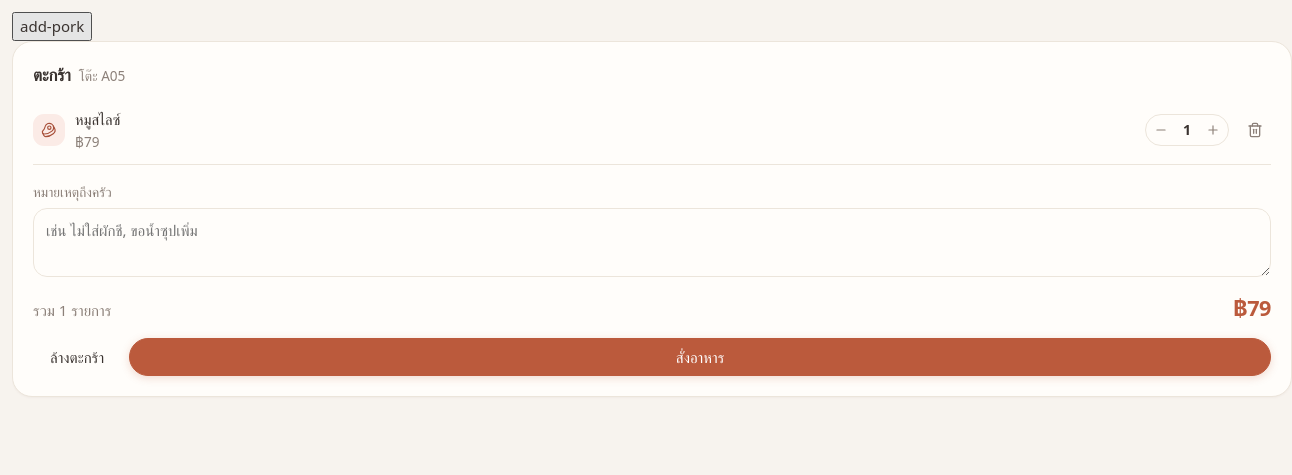
Scenario: CartPanel › สั่งไม่สำเร็จ → แสดง error จากเซิร์ฟเวอร์
Earlier steps of the test are not shown.
Click the button "สั่งอาหาร": click(700, 357) [129,338,1271,376]
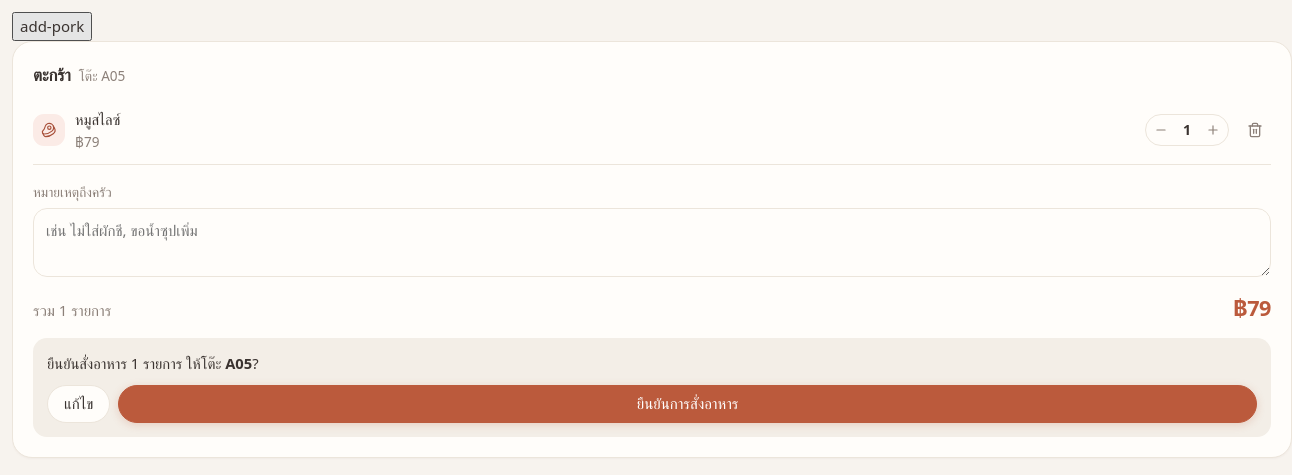
Click the button "ยืนยันการสั่งอาหาร": click(688, 404) [118,385,1257,423]
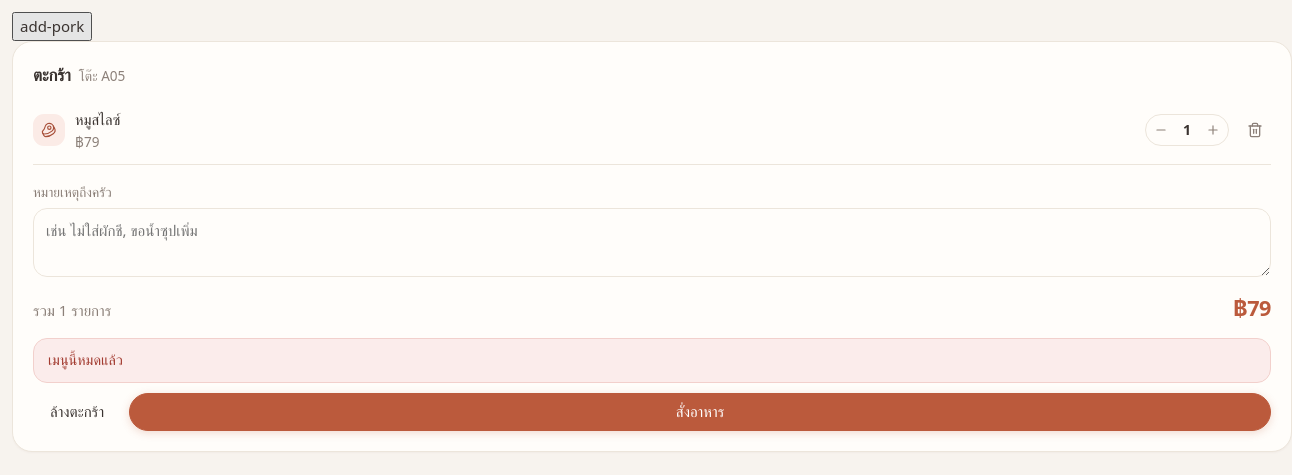
Expected: the text "เมนูนี้หมดแล้ว" is shown, [33,338,1271,382]
